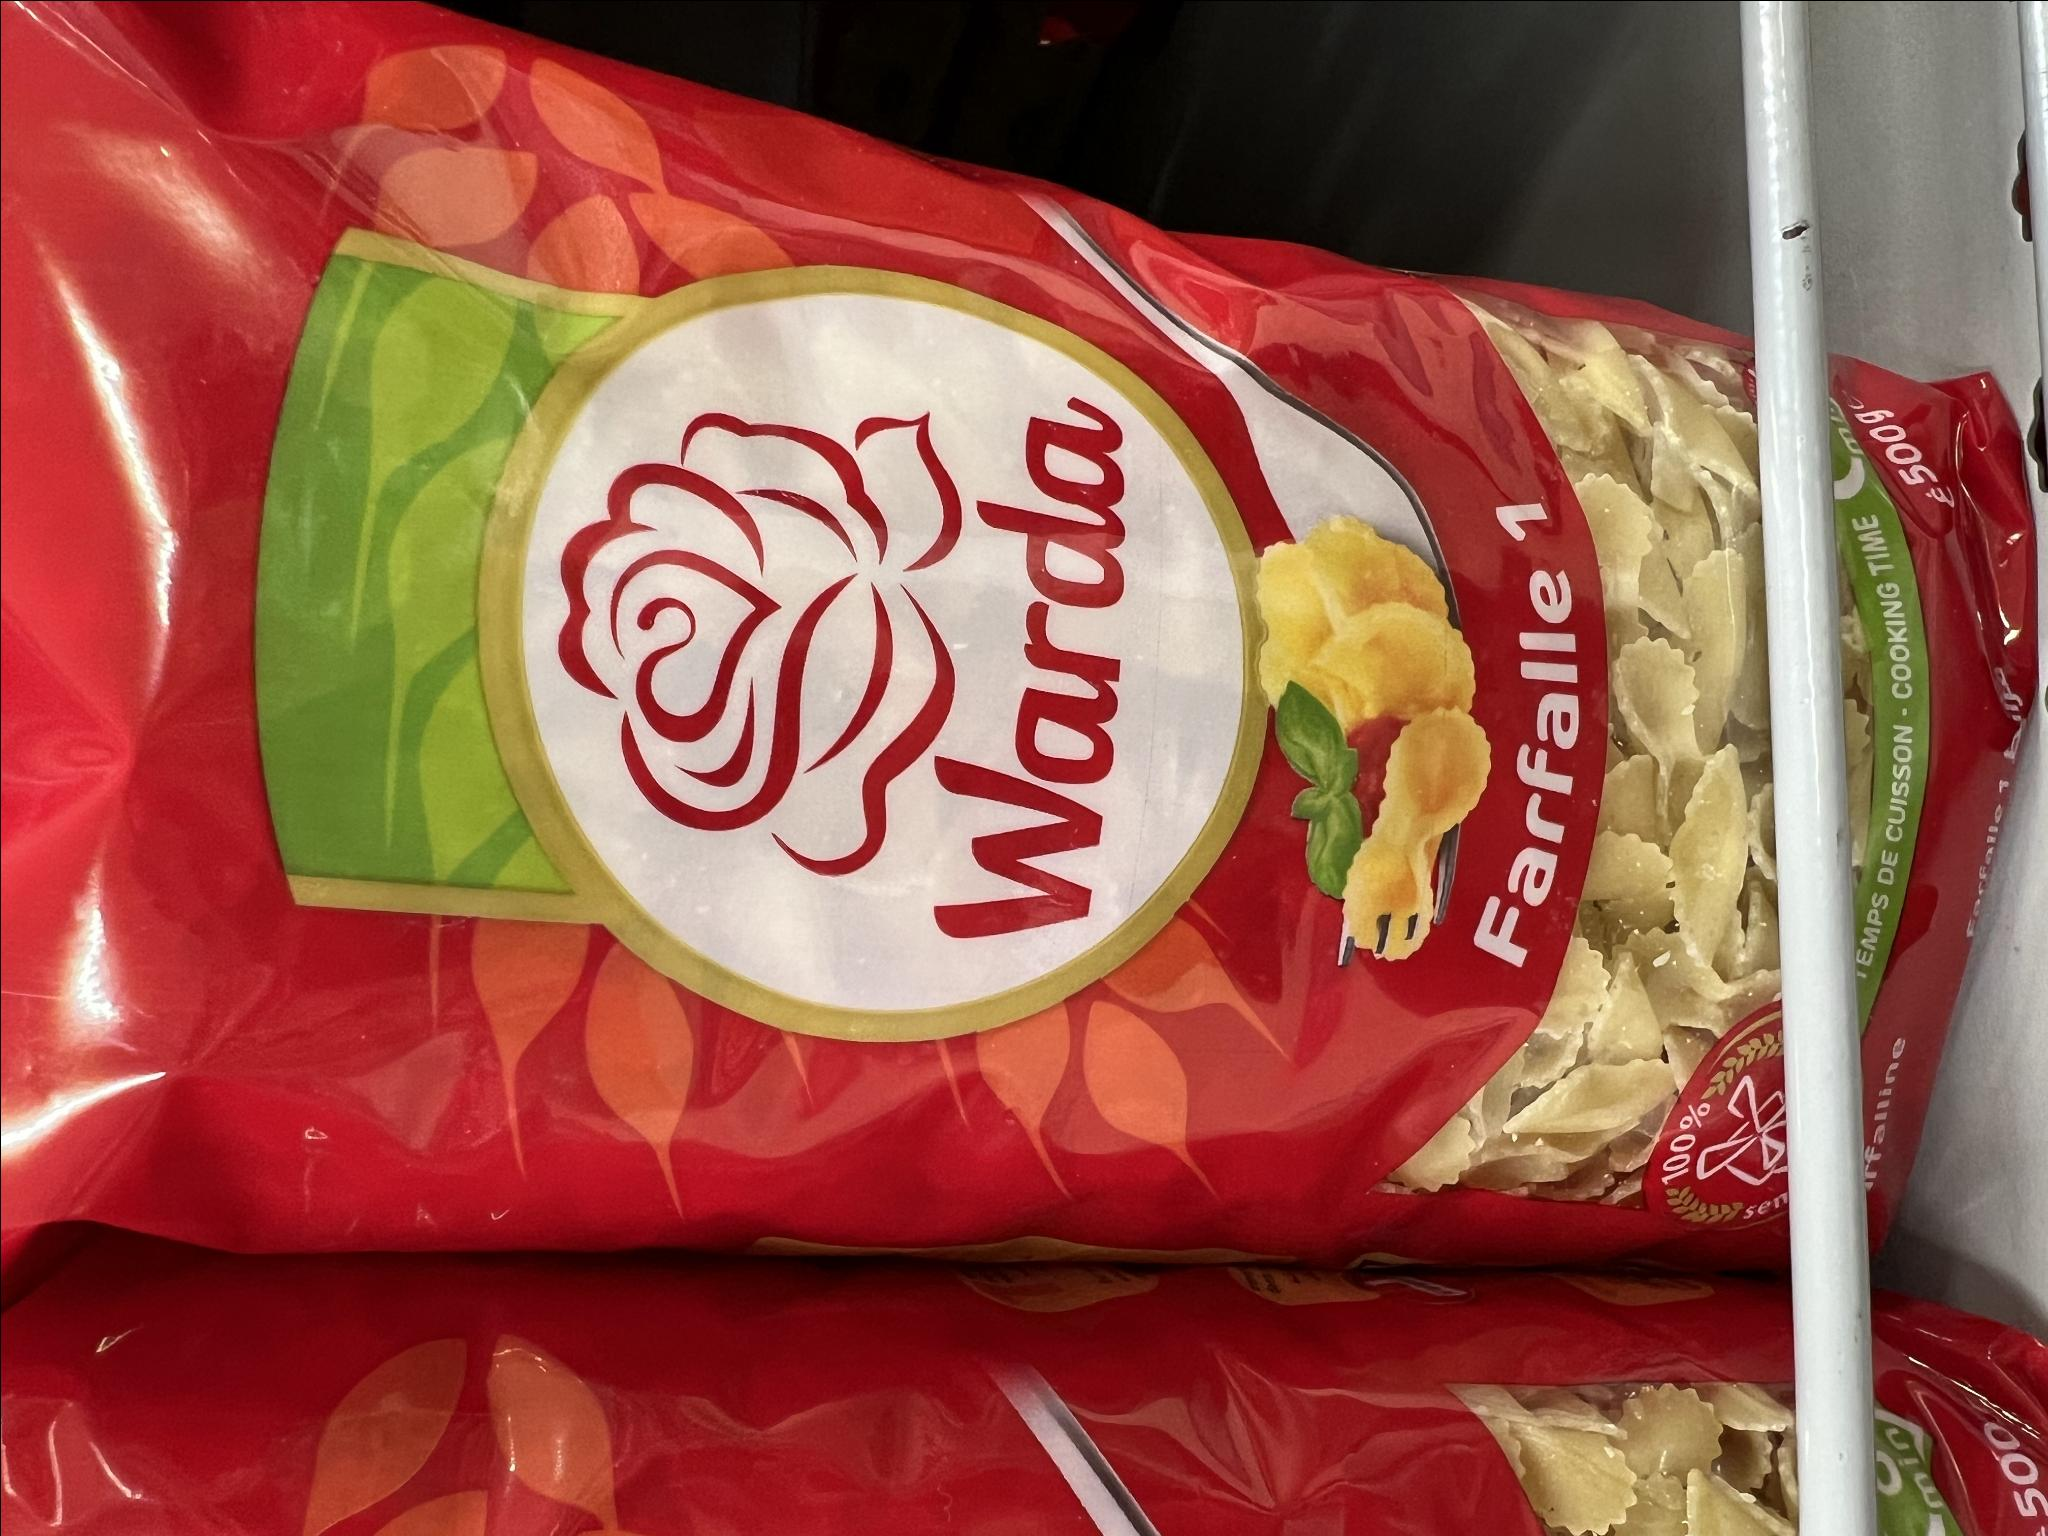Papillon: (0, 0, 2045, 1271)
